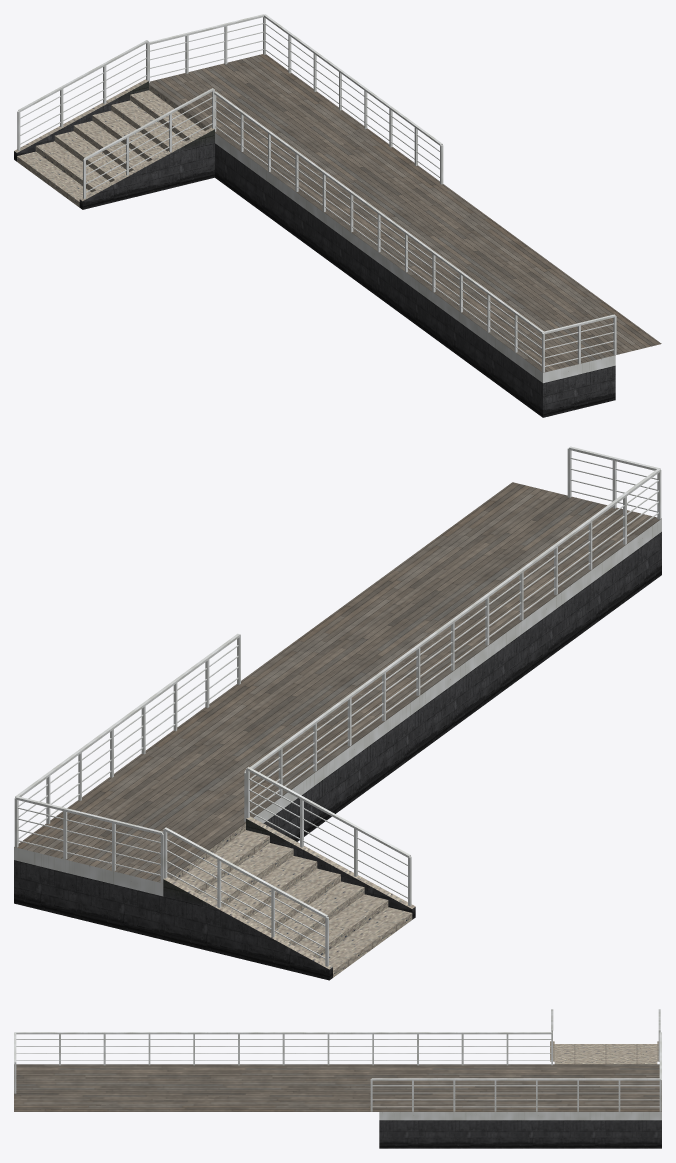
Rendered from SM_Mirabello_Pianerottolo.fbx.
The picture shows the model from 3 angles, top to bottom: view 1: azimuth 30°, elevation 25°; view 2: azimuth 150°, elevation 25°; view 3: azimuth 270°, elevation 25°; orthographic projection. The views are drawn at different scales.
Parts seen in each view (by area): view 1: SM_Mirabello_Pianerottolo; view 2: SM_Mirabello_Pianerottolo; view 3: SM_Mirabello_Pianerottolo.
Part boxes in pixels (bbox=[...]): SM_Mirabello_Pianerottolo: bbox=[14, 14, 661, 417]; SM_Mirabello_Pianerottolo: bbox=[14, 446, 661, 980]; SM_Mirabello_Pianerottolo: bbox=[14, 1009, 661, 1148].
Size of what is drawn, in the model's own units: 760 by 2080 by 255.
4 materials, 4 textured.
